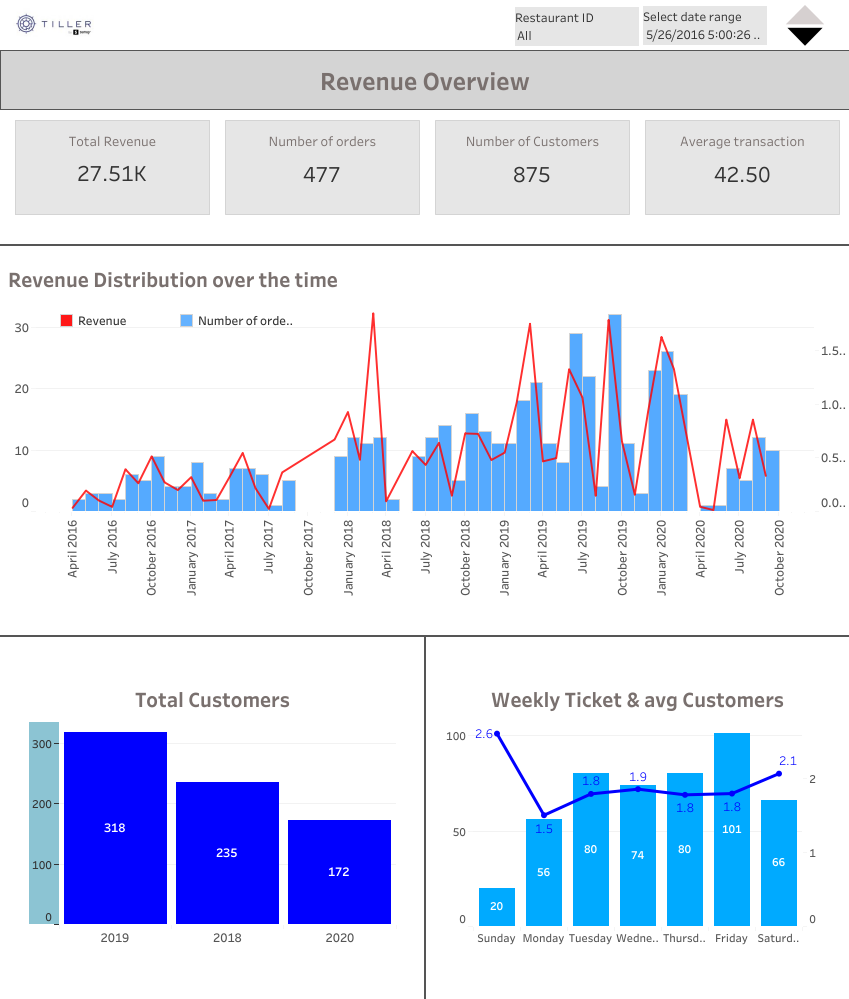

The page's visual inventory and layout, read from the dashboard file:
{"tool":"tableau","page":{"name":"Dashboard 1","canvas":[850,1000],"ordinal":0},"visuals":[{"type":"image","param":"Image/1643992225451.jpeg","box":[1,5,106,41]},{"type":"image","param":"Image/up-and-down-arrow1.png","box":[780,5,50,20]},{"type":"filter","title":"Revenue Distribution","param":"[federated.0a6qiph14ke5ld19y24hu0ekeql1].[none:date_closed:qk]","box":[643,6,124,39]},{"type":"filter","title":"Revenue Distribution","param":"[federated.0a6qiph14ke5ld19y24hu0ekeql1].[none:id_store:ok]","box":[515,7,124,39]},{"type":"dashboard-object","box":[780,27,50,20]},{"type":"text","box":[1,51,848,58]},{"type":"worksheet","title":"Total Revenue","mark":"Automatic","box":[16,121,193,93]},{"type":"worksheet","title":"Number of orders","mark":"Automatic","box":[226,121,193,93]},{"type":"worksheet","title":"Number of Customers","mark":"Automatic","box":[436,121,193,93]},{"type":"worksheet","title":"Average transaction","mark":"Automatic","box":[646,121,193,93]},{"type":"blank","box":[0,244,850,2]},{"type":"worksheet","title":"Revenue Distribution","mark":"Bar","rows":["id_order","Calculation_1804254600956628992"],"cols":["date_opened"],"box":[0,255,850,350]},{"type":"legend","title":"Revenue Distribution","param":"[federated.0a6qiph14ke5ld19y24hu0ekeql1].[:Measure Names]","box":[56,310,389,30]},{"type":"blank","box":[0,635,850,2]},{"type":"blank","box":[424,635,2,365]},{"type":"worksheet","title":"Total Customers","mark":"Bar","rows":["m_nb_customer"],"cols":["date_opened"],"box":[25,675,375,275]},{"type":"worksheet","title":"weekly ticket","mark":"Bar","rows":["id_order","m_nb_customer"],"cols":["date_opened"],"box":[440,675,395,275]}]}

Visuals, with their boxes in screenshot pixels (x1, y1, x2, y2), scaled from the page's 850x1000 canvas onto the 849x999 screenshot:
image: 1 5 107 46
image: 779 5 829 25
"Revenue Distribution" filter: 642 6 766 45
"Revenue Distribution" filter: 514 7 638 46
dashboard-object: 779 27 829 47
text: 1 51 848 109
"Total Revenue" worksheet: 16 121 209 214
"Number of orders" worksheet: 226 121 419 214
"Number of Customers" worksheet: 435 121 628 214
"Average transaction" worksheet: 645 121 838 214
blank: 0 244 848 246
"Revenue Distribution" worksheet (Bar marks): 0 255 848 604
"Revenue Distribution" legend: 56 310 444 340
blank: 0 634 848 636
blank: 424 634 425 998
"Total Customers" worksheet (Bar marks): 25 674 400 949
"weekly ticket" worksheet (Bar marks): 439 674 834 949
